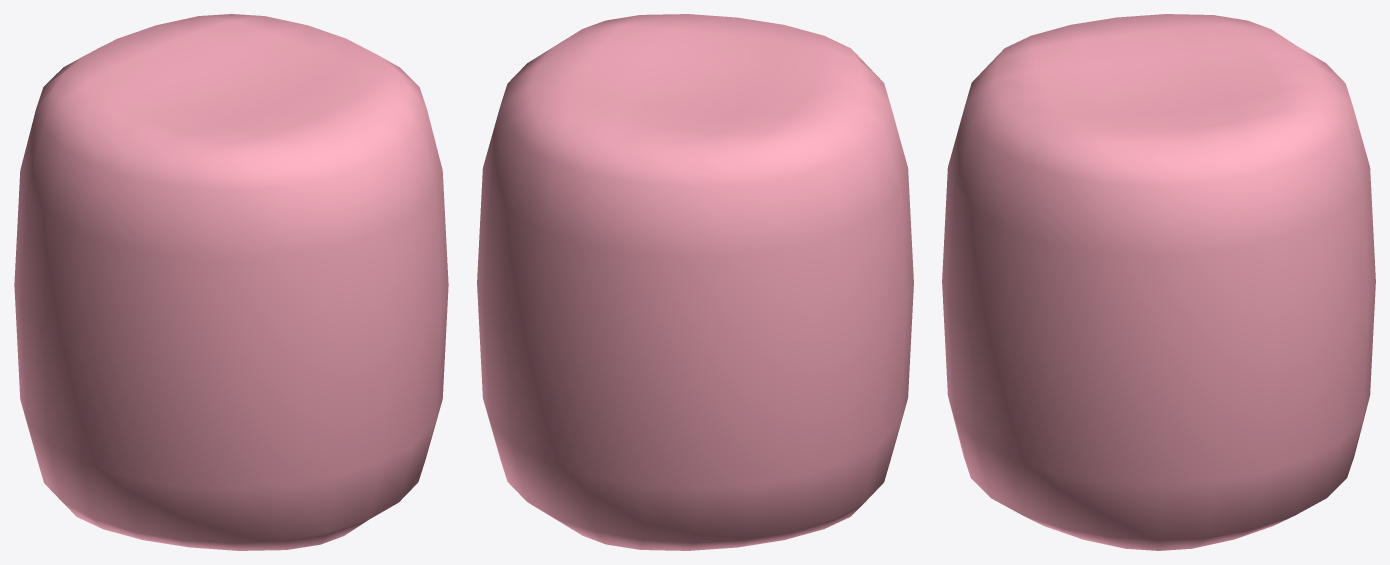
File: Marshmallow Pink.fbx
3 views of the same model, side by side, from view 1: azimuth 30°, elevation 25°; view 2: azimuth 150°, elevation 25°; view 3: azimuth 270°, elevation 25° (orthographic).
Visible parts, largest first — view 1: Marshmallow Pink; view 2: Marshmallow Pink; view 3: Marshmallow Pink.
Boxes of the visible parts, x1,y1,x2,y2 form: Marshmallow Pink: (14,14,448,550); Marshmallow Pink: (477,14,913,550); Marshmallow Pink: (942,14,1375,550).
Size of the model in its own units: 0.1566 by 0.1604 by 0.1566.
